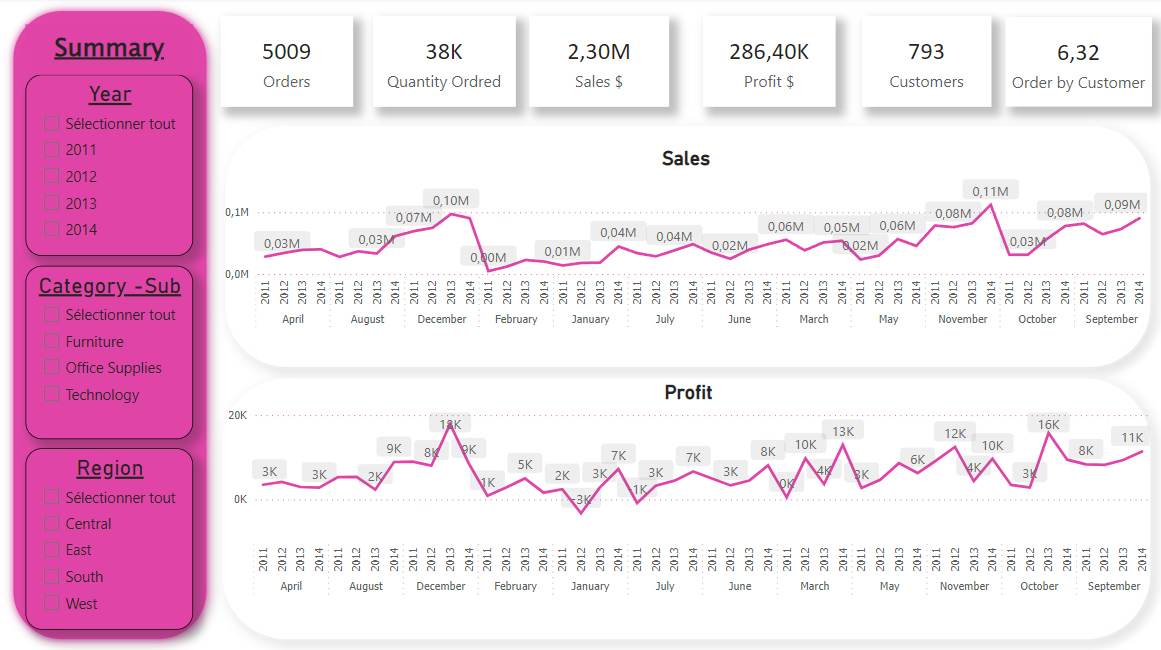

What the dashboard file says about the page in this screenshot:
{"tool":"powerbi","page":{"name":"Overview","canvas":[1280,720],"ordinal":0},"visuals":[{"type":"shape","box":[1.4,0,242.9,720.4],"z":0},{"type":"slicer","title":"Year","fields":{"Values":["Orders.Year"]},"box":[30.2,85.1,183.9,199],"z":1000},{"type":"textbox","box":[30.2,30.2,183.9,54.9],"z":2000},{"type":"slicer","title":"Category -Sub","fields":{"Values":["Orders.Category"]},"box":[30.2,295,183.9,190.7],"z":3000},{"type":"slicer","title":"Region","fields":{"Values":["Orders.Region"]},"box":[30.2,495.4,183.9,199],"z":4000},{"type":"card","fields":{"Values":["Count(Orders.Order ID)"]},"box":[244.3,20.6,145.5,100.2],"z":5000},{"type":"card","fields":{"Values":["Sum(Orders.Quantity)"]},"box":[411.7,20.6,156.4,100.2],"z":6000},{"type":"card","fields":{"Values":["Sum(Orders.Sales)"]},"box":[583.2,20.6,153.7,100.2],"z":7000},{"type":"card","fields":{"Values":["Sum(Orders.Profit)"]},"box":[773.9,20.6,145.5,100.2],"z":8000},{"type":"card","fields":{"Values":["Count(Orders.Customer ID)"]},"box":[948.2,20.6,142.7,100.2],"z":9000},{"type":"card","fields":{"Values":["Orders.ord/cust"]},"box":[1106,22,160.5,98.8],"z":10000},{"type":"shape","box":[234.6,126.2,1045.6,295],"z":12000},{"type":"lineChart","title":"Sales","fields":{"Y":["Sum(Orders.Sales)"],"Category":["Orders.Month","Orders.Year"]},"box":[244.3,164.7,1022.3,219.6],"z":13000},{"type":"shape","box":[230.5,403.4,1049.7,317],"z":13502},{"type":"lineChart","title":"Profit","fields":{"Category":["Orders.Month","Orders.Year"],"Y":["Sum(Orders.Profit)"]},"box":[247,421.3,1022.3,256.6],"z":14002}]}

Visuals, with their boxes in screenshot pixels (x1, y1, x2, y2), scaled from the page's 1280x720 canvas onto the 1161x650 screenshot:
shape: locate(1, 0, 222, 649)
"Year" slicer: locate(27, 77, 194, 256)
textbox: locate(27, 27, 194, 77)
"Category -Sub" slicer: locate(27, 266, 194, 438)
"Region" slicer: locate(27, 447, 194, 627)
card - Count(Orders.Order ID): locate(222, 19, 354, 109)
card - Sum(Orders.Quantity): locate(373, 19, 515, 109)
card - Sum(Orders.Sales): locate(529, 19, 668, 109)
card - Sum(Orders.Profit): locate(702, 19, 834, 109)
card - Count(Orders.Customer ID): locate(860, 19, 989, 109)
card - Orders.ord/cust: locate(1003, 20, 1149, 109)
shape: locate(213, 114, 1160, 380)
"Sales" lineChart: locate(222, 149, 1149, 347)
shape: locate(209, 364, 1160, 649)
"Profit" lineChart: locate(224, 380, 1151, 612)
